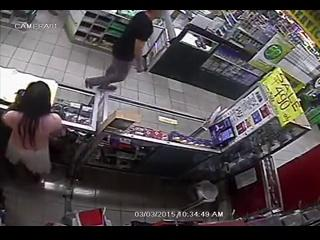Normal: (83, 10, 166, 92), (1, 80, 64, 184)
